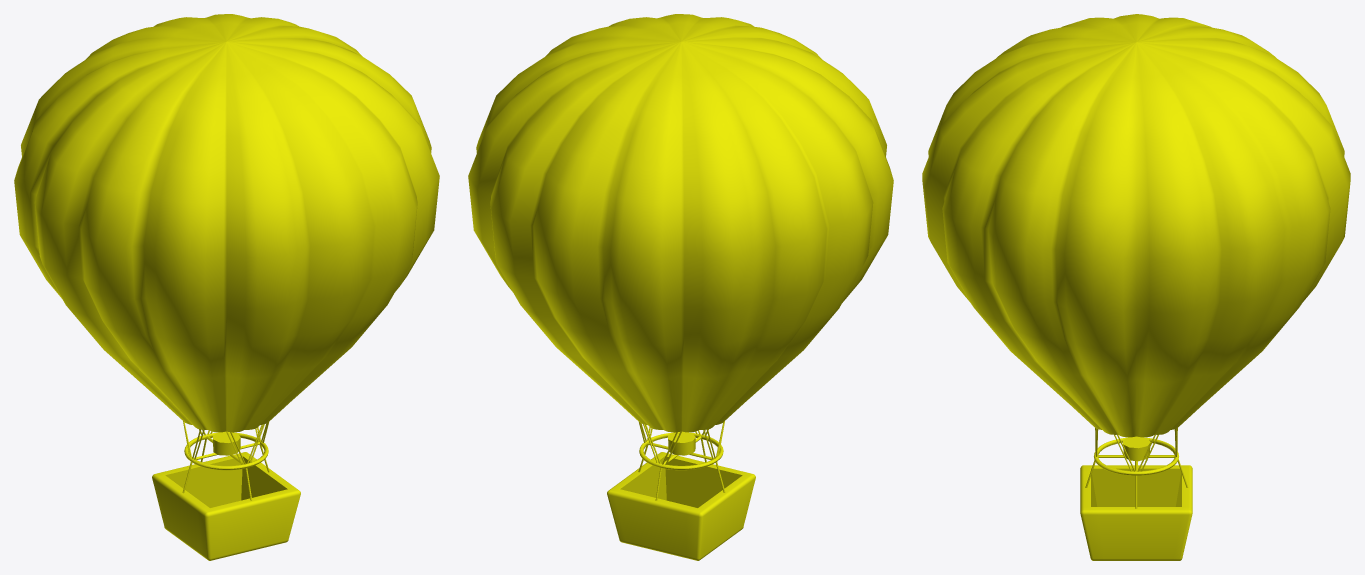
The model's file is Hot Air balloon.fbx.
3 renders of one model, left to right at view 1: azimuth 30°, elevation 25°; view 2: azimuth 150°, elevation 25°; view 3: azimuth 270°, elevation 25°, orthographic.
Parts seen in each view (by area): view 1: BALLOON, SEAT, FIRE_HOLDER, ropes; view 2: BALLOON, SEAT, FIRE_HOLDER, ropes; view 3: BALLOON, SEAT, FIRE_HOLDER, ropes.
Boxes of the visible parts, bbox=[...] form: BALLOON: bbox=[14, 14, 439, 432]; SEAT: bbox=[152, 452, 300, 560]; FIRE_HOLDER: bbox=[184, 431, 268, 470]; ropes: bbox=[182, 421, 269, 500]; BALLOON: bbox=[468, 14, 893, 432]; SEAT: bbox=[607, 452, 755, 560]; FIRE_HOLDER: bbox=[639, 431, 723, 470]; ropes: bbox=[638, 421, 725, 500]; BALLOON: bbox=[922, 14, 1350, 437]; SEAT: bbox=[1080, 465, 1192, 560]; FIRE_HOLDER: bbox=[1094, 436, 1178, 475]; ropes: bbox=[1085, 428, 1188, 508].
Size of the model in its own units: 564 by 725 by 563.
